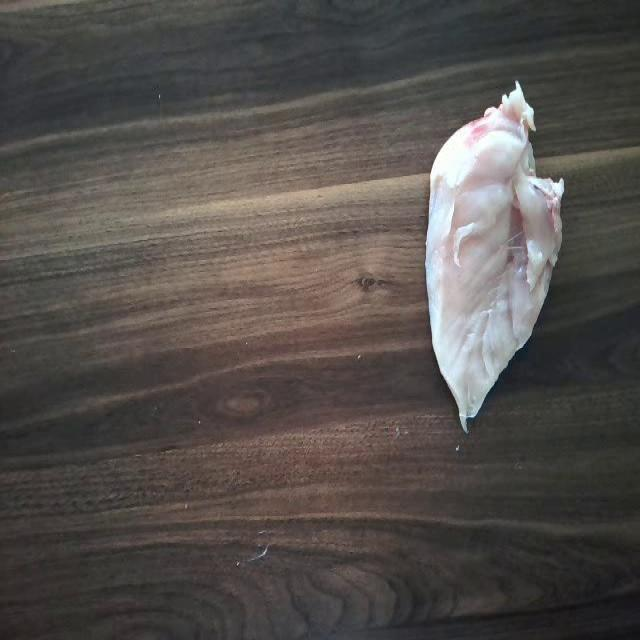breast: (424, 79, 566, 433)
